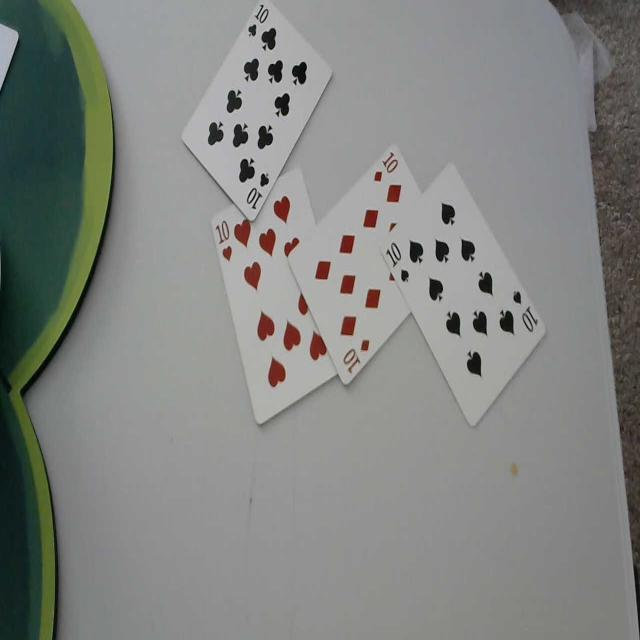10C: (245, 172, 271, 211), (248, 2, 270, 40)
10D: (341, 337, 371, 378), (372, 147, 399, 187)
10H: (215, 219, 234, 267)
10S: (510, 287, 538, 336), (385, 241, 410, 284)
